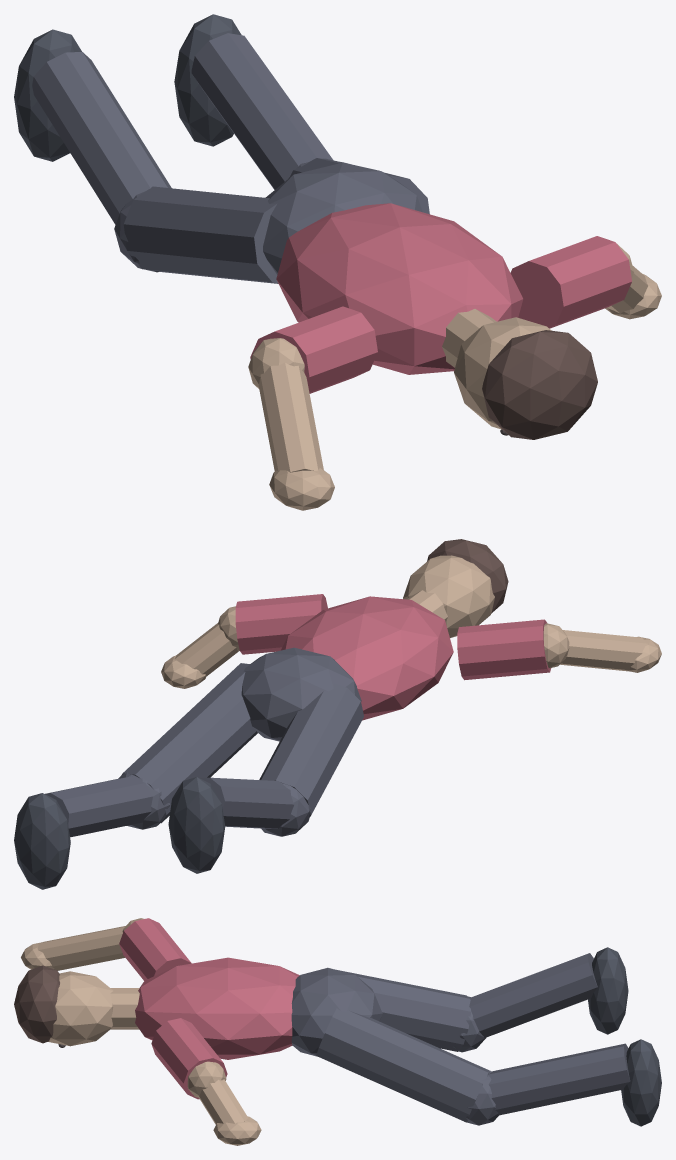
The picture shows the model from 3 angles, top to bottom: view 1: azimuth 30°, elevation 25°; view 2: azimuth 150°, elevation 25°; view 3: azimuth 270°, elevation 25°; orthographic projection. The views are drawn at different scales.
Parts seen in each view (by area): view 1: world; view 2: world; view 3: world.
Boxes of the visible parts, left/top/right/bottom form: world: left=14, top=14, right=661, bottom=510; world: left=14, top=539, right=661, bottom=889; world: left=14, top=918, right=661, bottom=1145.
Bounding box in the file's own units: 1.25 × 0.4125 × 2.01.
